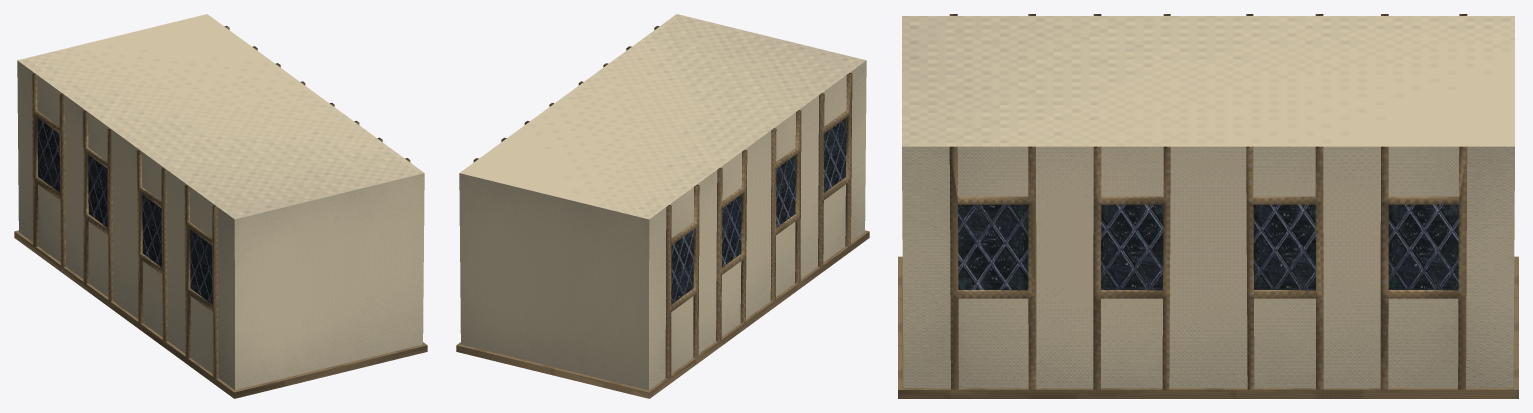
File: house_rectangle_mid.fbx
3 renders of one model, left to right at view 1: azimuth 30°, elevation 25°; view 2: azimuth 150°, elevation 25°; view 3: azimuth 270°, elevation 25°, orthographic. The views are drawn at different scales.
Parts seen in each view (by area): view 1: rectangle_mid; view 2: rectangle_mid; view 3: rectangle_mid.
Part boxes in pixels (bbox=[...]): rectangle_mid: bbox=[14, 14, 427, 398]; rectangle_mid: bbox=[456, 14, 869, 398]; rectangle_mid: bbox=[898, 14, 1518, 398].
Size of the model in its own units: 15.92 by 13.87 by 31.06.
Materials: 2 (2 with a texture image).
